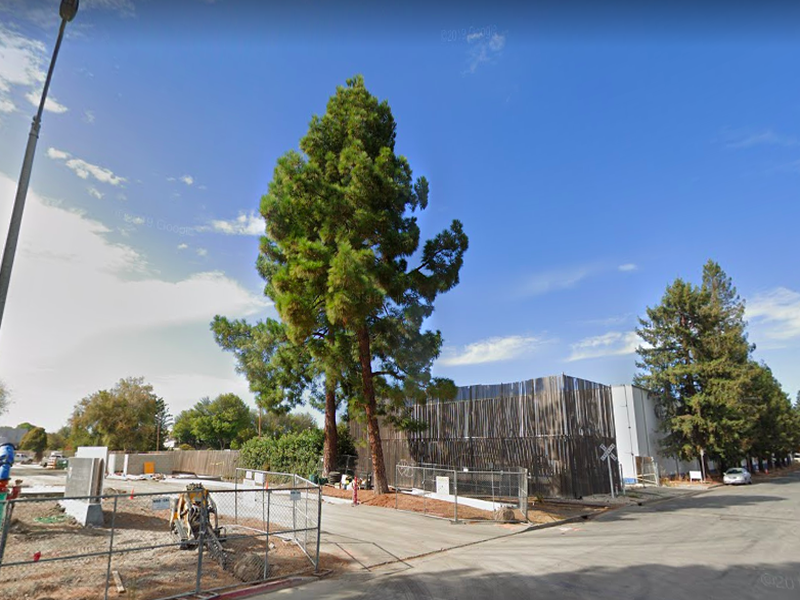tree: (256, 74, 429, 497), (632, 258, 763, 488)
